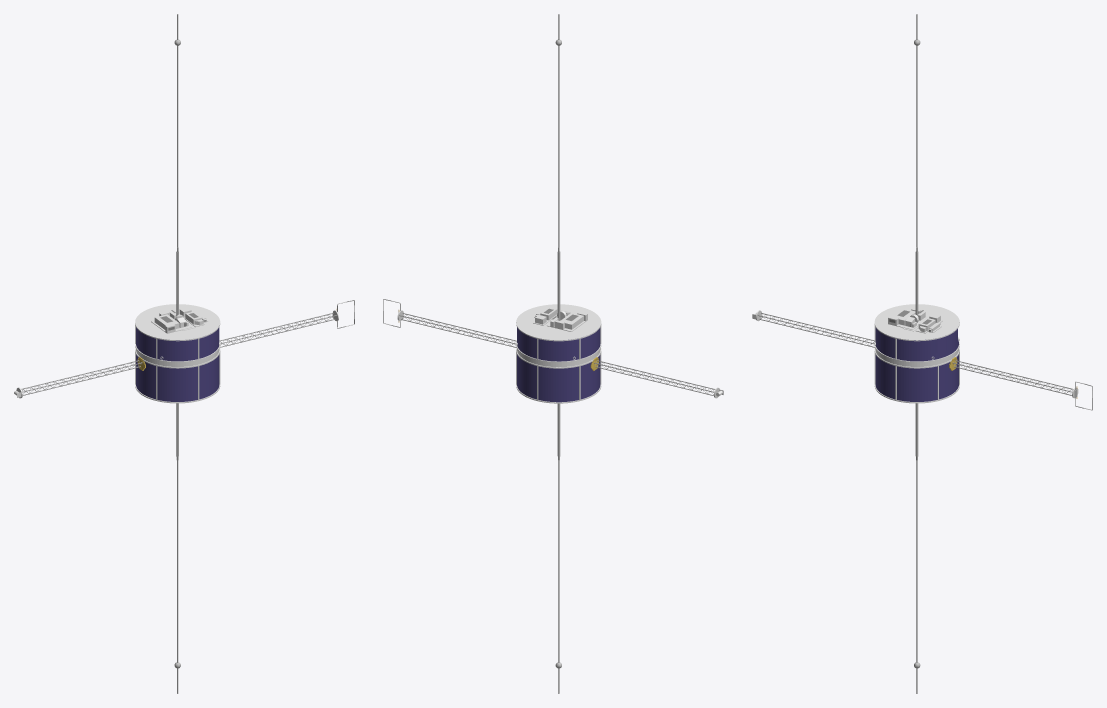
Rendered from geotailsat.glb.
The picture shows the model from 3 angles, left to right: view 1: azimuth 30°, elevation 25°; view 2: azimuth 150°, elevation 25°; view 3: azimuth 330°, elevation 25°; orthographic projection.
Visible parts, largest first — view 1: Layer_0; view 2: Layer_0; view 3: Layer_0.
Boxes of the visible parts, left/top/right/bottom form: Layer_0: left=14, top=14, right=354, bottom=693; Layer_0: left=383, top=14, right=723, bottom=693; Layer_0: left=752, top=14, right=1092, bottom=693.
Size of the model in its own units: 5491 by 10511 by 1195.
Materials: 5 (5 with a texture image).
